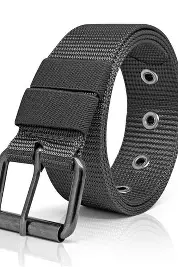sabuk_ada: (2, 22, 176, 233)
